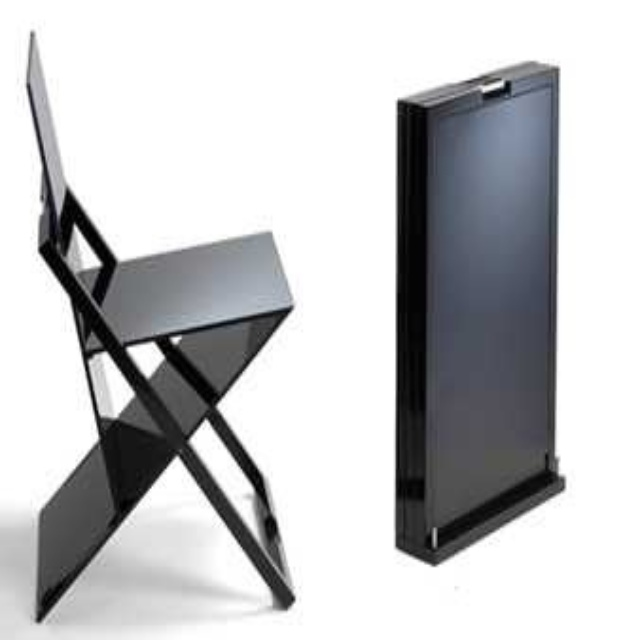obstacle: (27, 32, 292, 618), (396, 61, 562, 562)
